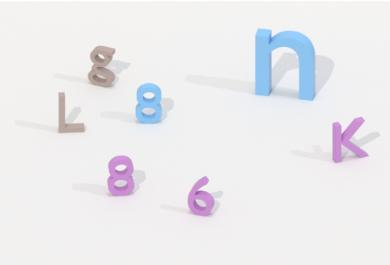6: (185, 174, 217, 218)
8: (105, 150, 137, 201), (134, 79, 166, 128)
K: (328, 113, 372, 165)
L: (54, 85, 90, 138)
g: (84, 41, 119, 91)
n: (250, 23, 320, 107)
